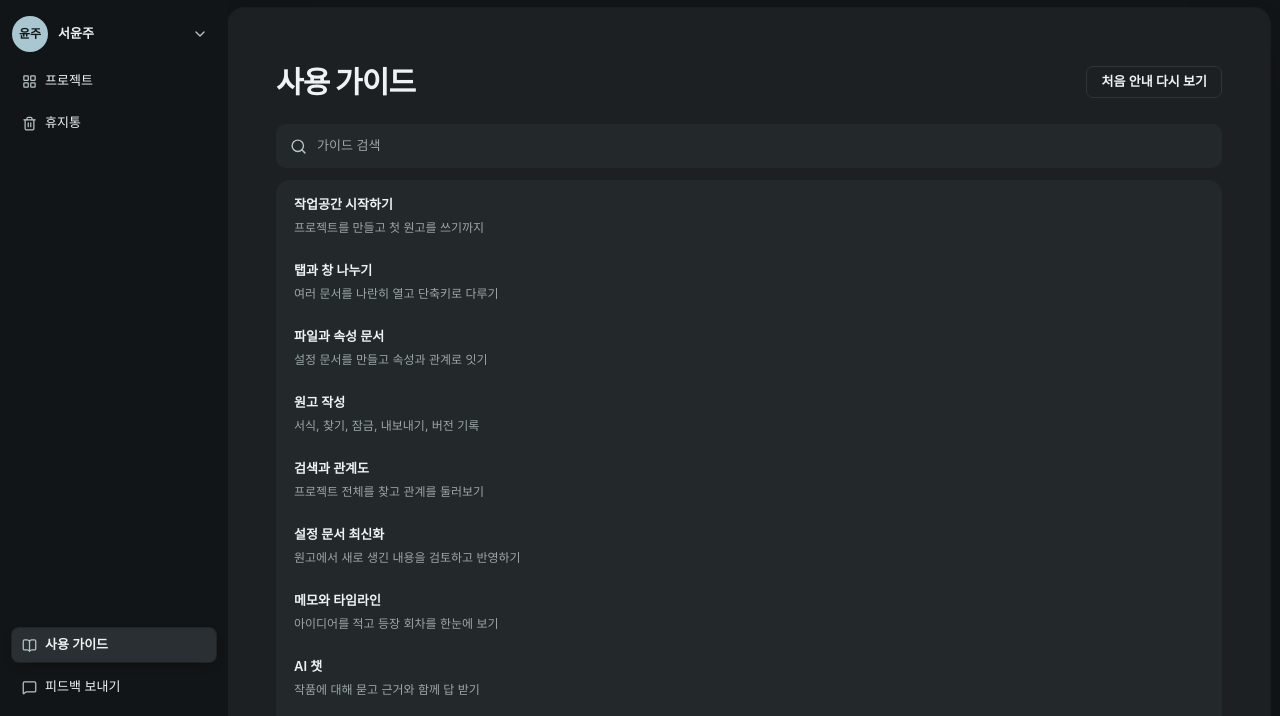
Scenario: ProjectGuidePage › clears a search that finds nothing
Type "존재하지 않는 주제" into the search field at (762, 146), box [317,136,1208,156]
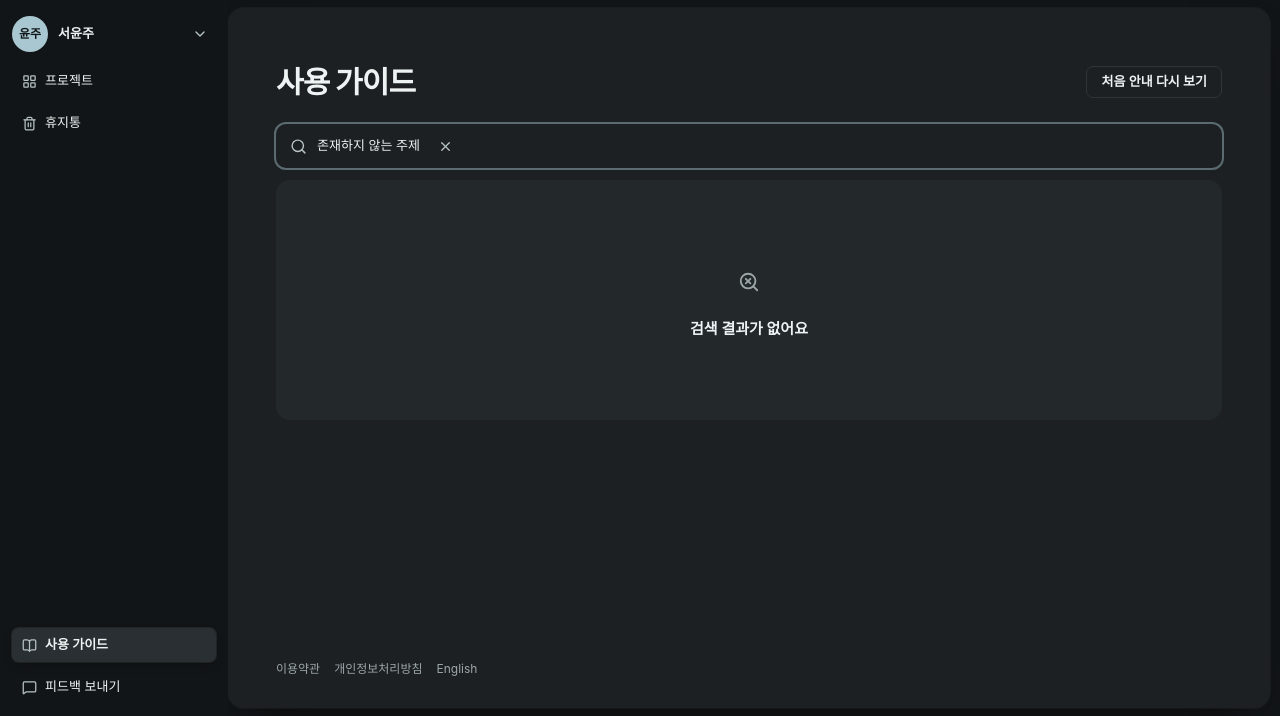
Check: the heading "검색 결과가 없어요" is shown, box [690,318,808,340]
Click the button named "검색어 지우기" at (446, 146), box [434,134,458,158]
(page scrolled)
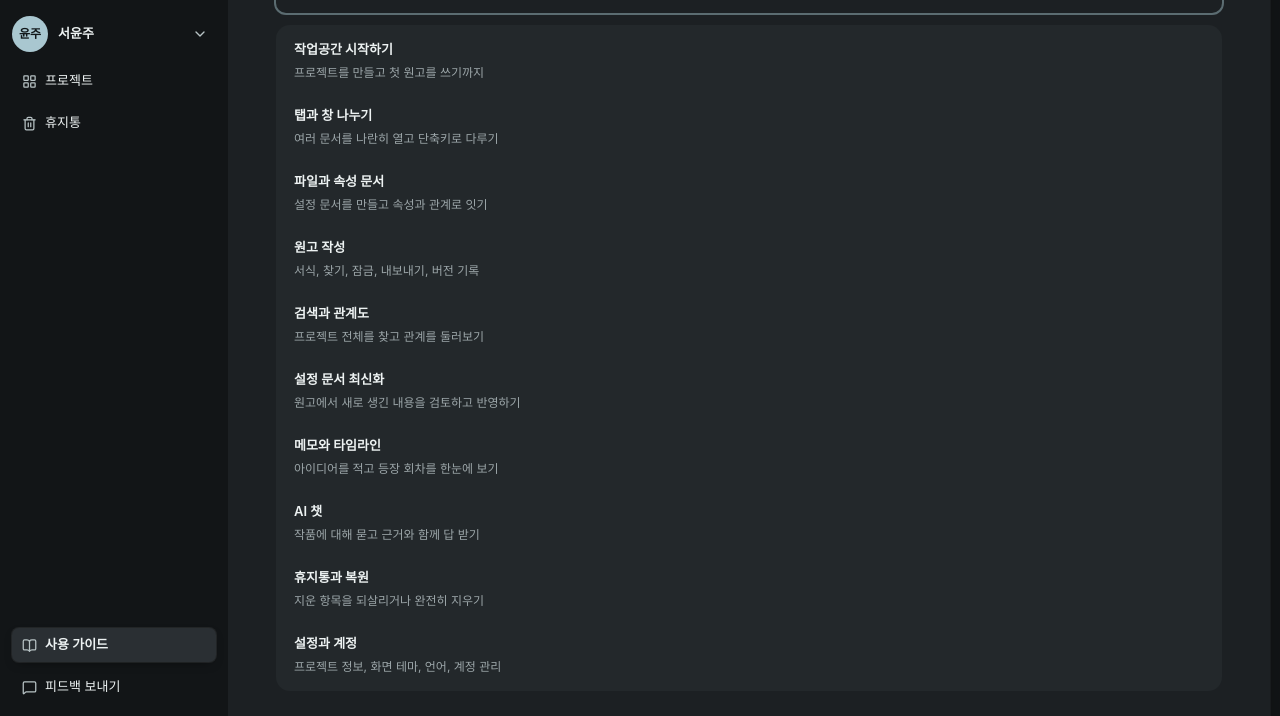
Check: the list named "가이드 주제" is shown
